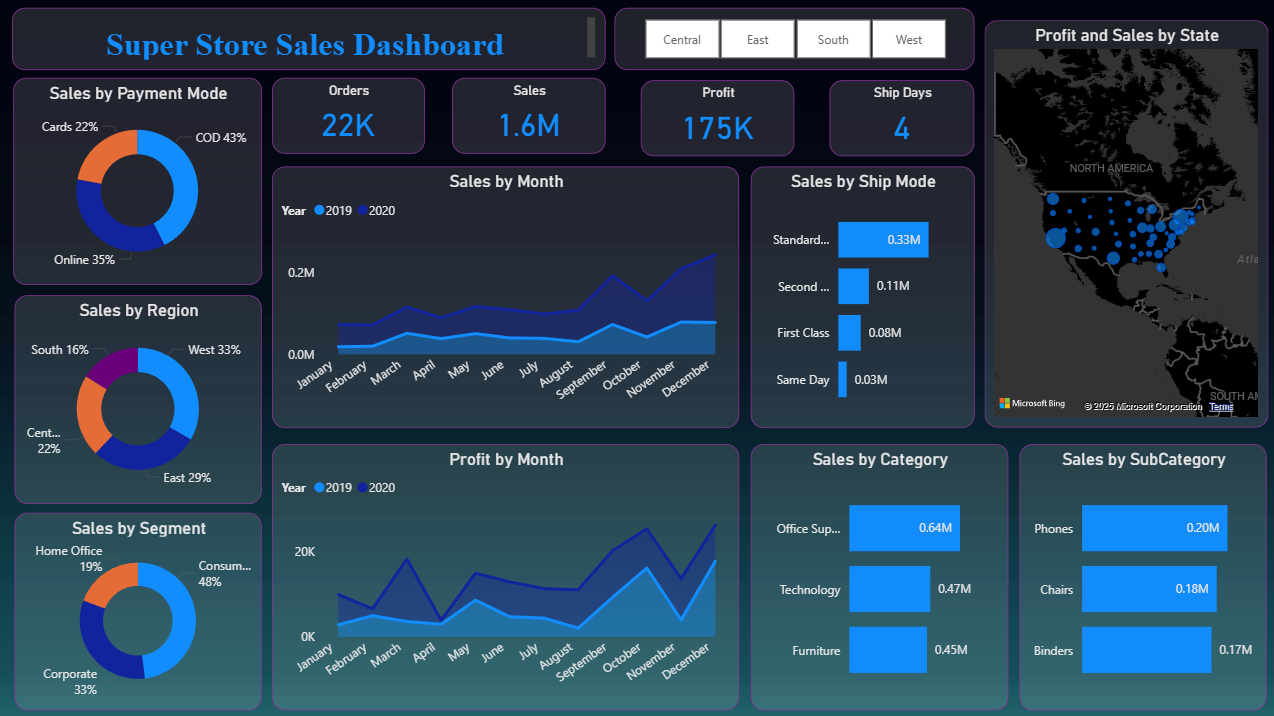

What the dashboard file says about the page in this screenshot:
{"tool":"powerbi","page":{"name":"Dashboard","canvas":[1280,720],"ordinal":0},"visuals":[{"type":"clusteredBarChart","title":"Sales by Category","fields":{"Y":["Sum(SuperStore_Sales_Dataset.Sales)"],"Category":["SuperStore_Sales_Dataset.Category"]},"box":[753.8,445,257.5,266.2],"z":0},{"type":"clusteredBarChart","title":"Sales by SubCategory","fields":{"Y":["Sum(SuperStore_Sales_Dataset.Sales)"],"Category":["SuperStore_Sales_Dataset.Sub-Category"]},"box":[1022.5,445,247.5,266.2],"z":1000},{"type":"clusteredBarChart","title":"Sales by Ship Mode","fields":{"Y":["Sum(SuperStore_Sales_Dataset.Sales)"],"Category":["SuperStore_Sales_Dataset.Ship Mode"]},"box":[753.8,167.5,223.8,261.2],"z":2000},{"type":"stackedAreaChart","title":"Sales by Month","fields":{"Category":["SuperStore_Sales_Dataset.Order Date.Variation.Date Hierarchy.Month","SuperStore_Sales_Dataset.Order Date.Variation.Date Hierarchy.Day"],"Y":["Sum(SuperStore_Sales_Dataset.Sales)"],"Series":["SuperStore_Sales_Dataset.Order Date.Variation.Date Hierarchy.Year"]},"box":[275,167.5,467.5,261.2],"z":3000},{"type":"stackedAreaChart","title":" Profit by Month","fields":{"Category":["SuperStore_Sales_Dataset.Order Date.Variation.Date Hierarchy.Month","SuperStore_Sales_Dataset.Order Date.Variation.Date Hierarchy.Day"],"Series":["SuperStore_Sales_Dataset.Order Date.Variation.Date Hierarchy.Year"],"Y":["Sum(SuperStore_Sales_Dataset.Profit)"]},"box":[275,445,467.5,266.2],"z":4000},{"type":"map","title":"Profit and Sales by State","fields":{"Category":["SuperStore_Sales_Dataset.State"],"Size":["Sum(SuperStore_Sales_Dataset.Sales)"]},"box":[987.5,21.2,283.8,407.5],"z":5000},{"type":"donutChart","title":"Sales by Segment","fields":{"Category":["SuperStore_Sales_Dataset.Segment"],"Y":["Sum(SuperStore_Sales_Dataset.Sales)"]},"box":[17.5,513.8,247.5,197.5],"z":6000},{"type":"donutChart","title":" Sales by Payment Mode","fields":{"Y":["Sum(SuperStore_Sales_Dataset.Sales)"],"Category":["SuperStore_Sales_Dataset.Payment Mode"]},"box":[16.2,78.8,248.8,207.5],"z":7000},{"type":"slicer","fields":{"Values":["SuperStore_Sales_Dataset.Region"]},"box":[617.5,8.8,360,62.5],"z":8000},{"type":"textbox","box":[15,8.8,593.8,62.5],"z":9000},{"type":"card","title":"Sales","fields":{"Values":["Sum(SuperStore_Sales_Dataset.Sales)"]},"box":[455,78.8,153.8,76.2],"z":10000},{"type":"card","title":"Orders","fields":{"Values":["Sum(SuperStore_Sales_Dataset.Quantity)"]},"box":[275,78.8,152.5,76.2],"z":11000},{"type":"card","title":"Profit","fields":{"Values":["Sum(SuperStore_Sales_Dataset.Profit)"]},"box":[643.8,81.2,153.8,76.2],"z":12000},{"type":"card","title":"Ship Days","fields":{"Values":["Avg(SuperStore_Sales_Dataset.AvgDelivery)"]},"box":[832.5,81.2,145,76.2],"z":13000},{"type":"donutChart","title":" Sales by Region","fields":{"Y":["Sum(SuperStore_Sales_Dataset.Sales)"],"Category":["SuperStore_Sales_Dataset.Region"]},"box":[17.5,296.2,247.5,208.8],"z":14000}]}

Visuals, with their boxes in screenshot pixels (x1, y1, x2, y2), scaled from the page's 1280x720 canvas onto the 1274x716 screenshot:
"Sales by Category" clusteredBarChart: x1=750, y1=443, x2=1007, y2=707
"Sales by SubCategory" clusteredBarChart: x1=1018, y1=443, x2=1264, y2=707
"Sales by Ship Mode" clusteredBarChart: x1=750, y1=167, x2=973, y2=426
"Sales by Month" stackedAreaChart: x1=274, y1=167, x2=739, y2=426
" Profit by Month" stackedAreaChart: x1=274, y1=443, x2=739, y2=707
"Profit and Sales by State" map: x1=983, y1=21, x2=1265, y2=426
"Sales by Segment" donutChart: x1=17, y1=511, x2=264, y2=707
" Sales by Payment Mode" donutChart: x1=16, y1=78, x2=264, y2=285
slicer - SuperStore_Sales_Dataset.Region: x1=615, y1=9, x2=973, y2=71
textbox: x1=15, y1=9, x2=606, y2=71
"Sales" card: x1=453, y1=78, x2=606, y2=154
"Orders" card: x1=274, y1=78, x2=425, y2=154
"Profit" card: x1=641, y1=81, x2=794, y2=157
"Ship Days" card: x1=829, y1=81, x2=973, y2=157
" Sales by Region" donutChart: x1=17, y1=295, x2=264, y2=502
